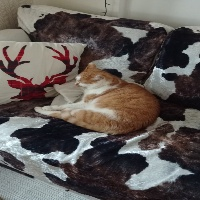asleep: (34, 62, 160, 134)
